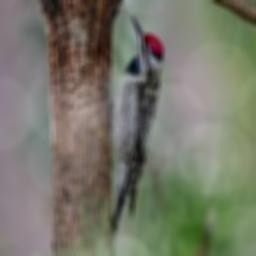Woodpecker: (110, 14, 162, 236)
